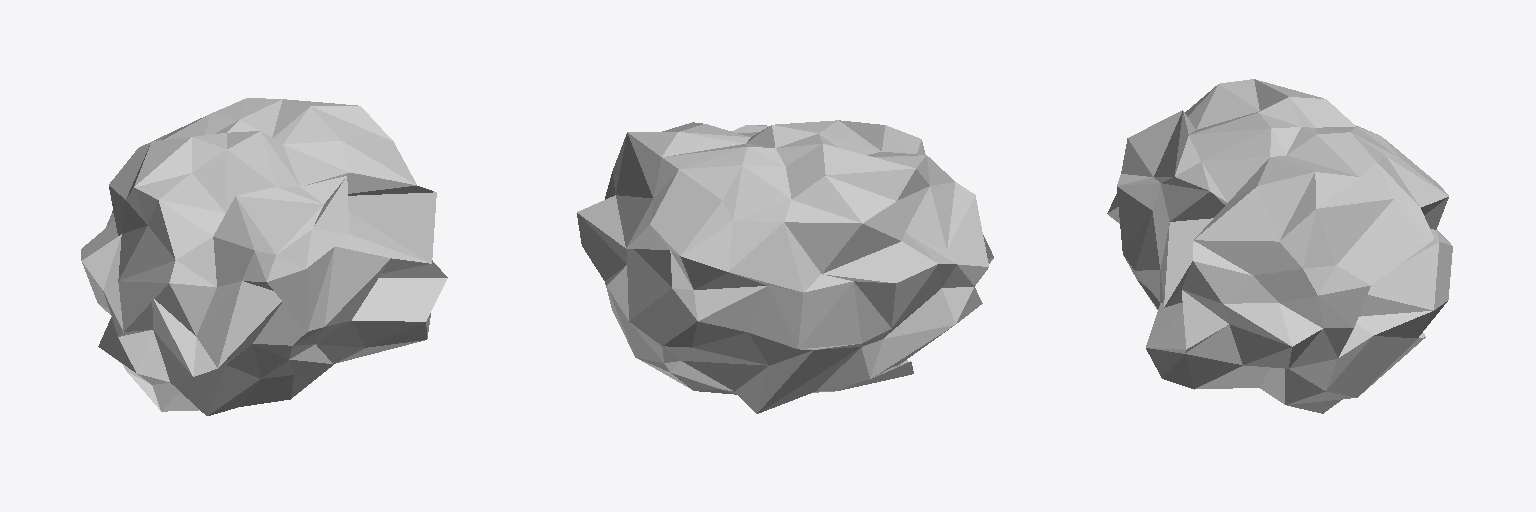
File: CramplePaper1.obj
3 views of the same model, side by side, from view 1: azimuth 30°, elevation 25°; view 2: azimuth 150°, elevation 25°; view 3: azimuth 270°, elevation 25° (orthographic).
Visible parts, largest first — view 1: Icosphere.001; view 2: Icosphere.001; view 3: Icosphere.001.
Boxes of the visible parts, x1,y1,x2,y2 form: Icosphere.001: [81, 98, 447, 415]; Icosphere.001: [577, 120, 993, 413]; Icosphere.001: [1107, 79, 1452, 413].
Bounding box in the file's own units: 0.1048 × 0.0737 × 0.0888.